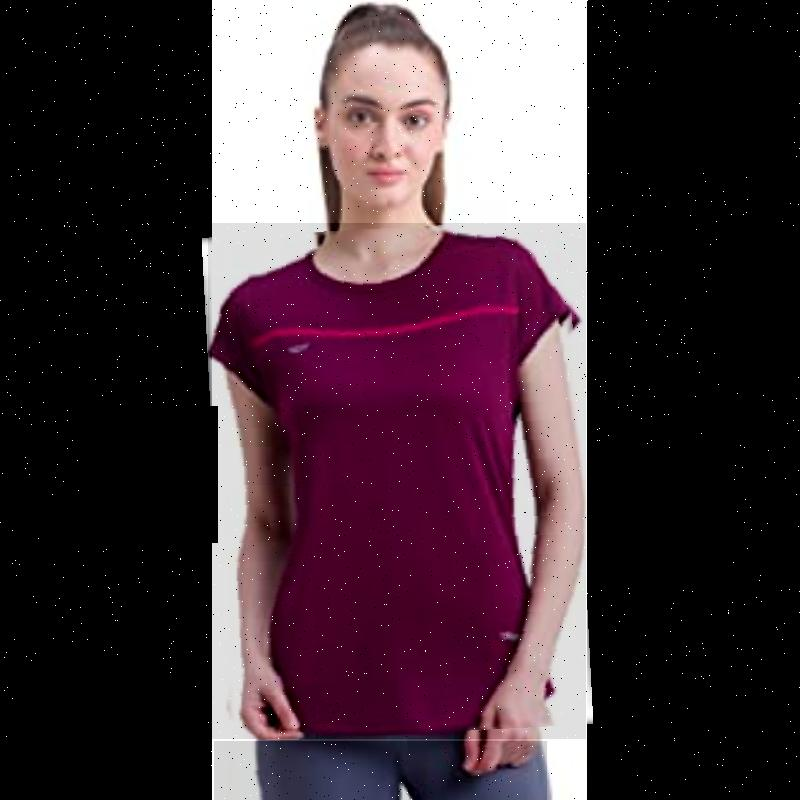Pant: (214, 741, 547, 800)
Tshirt: (208, 223, 586, 739)
